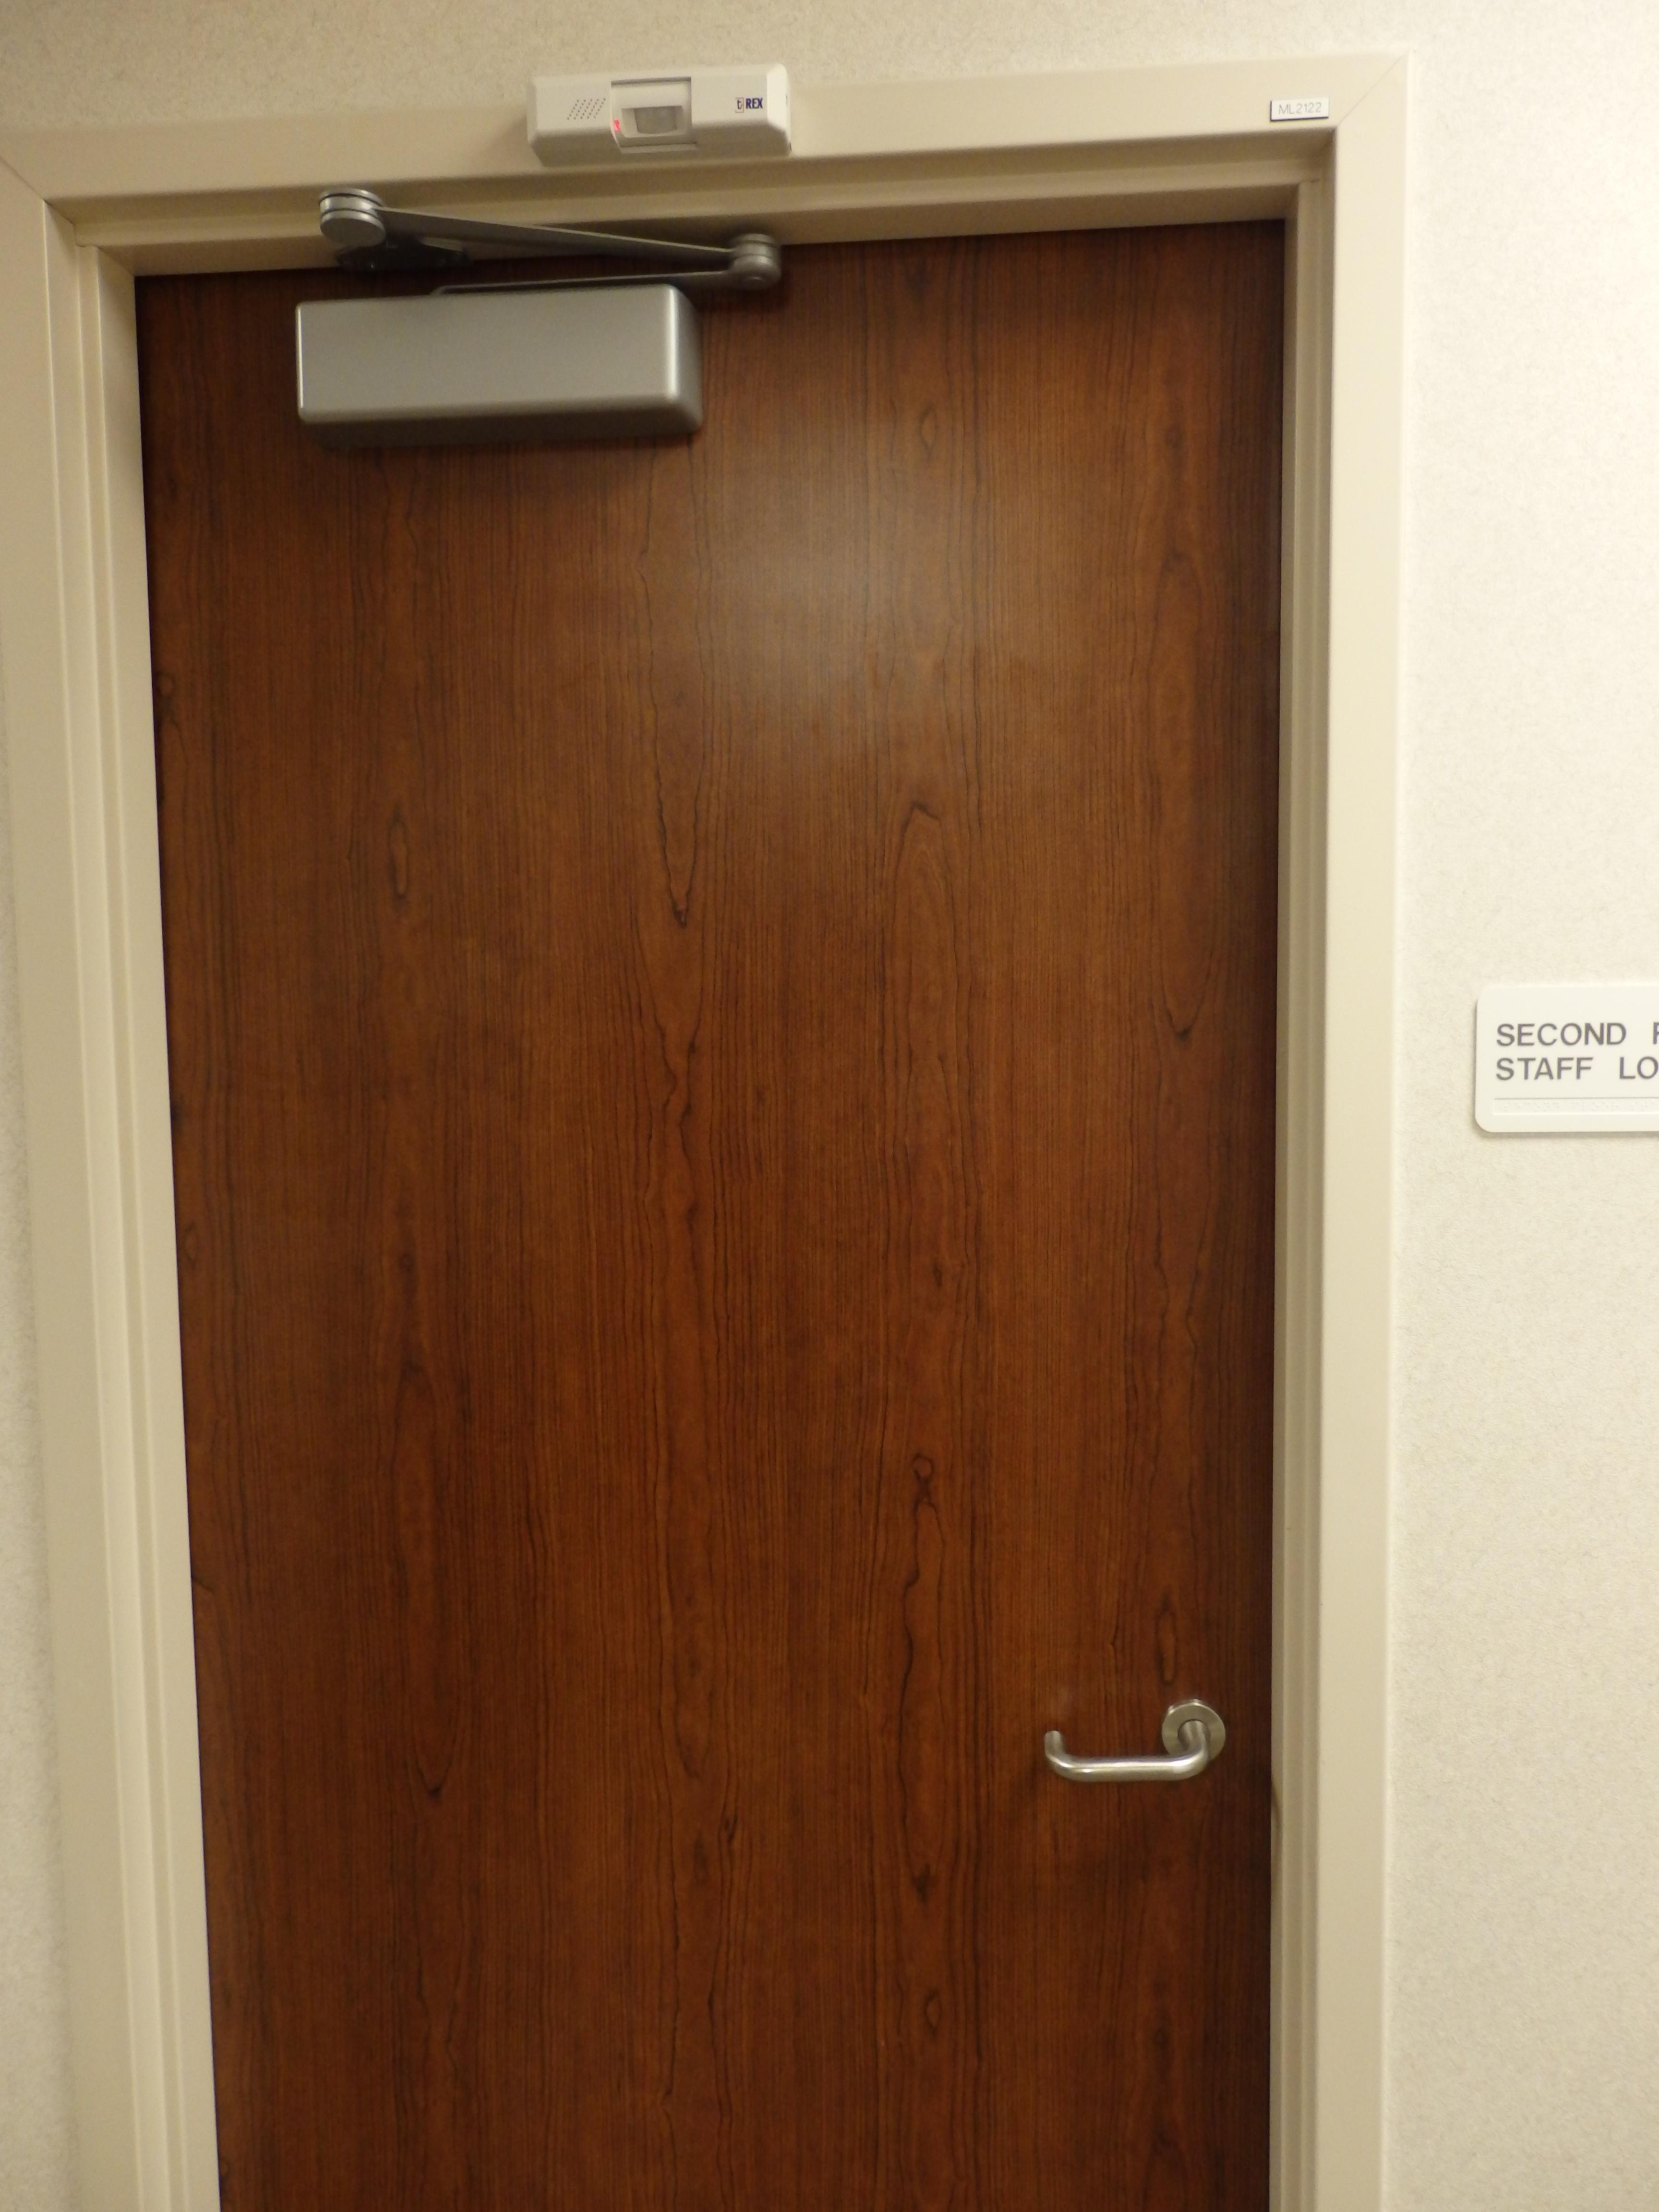door: (99, 214, 1309, 2212)
